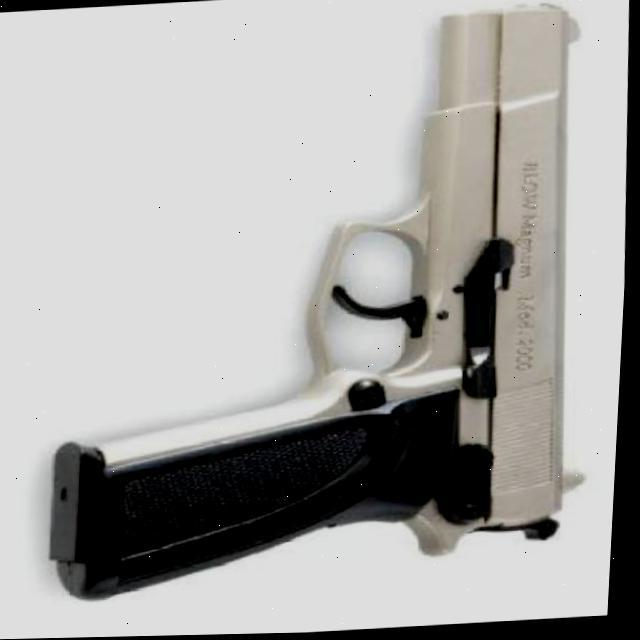gun: (32, 0, 614, 603)
